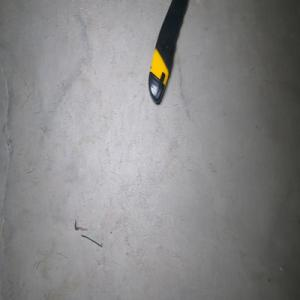Cutter: (147, 0, 189, 105)
